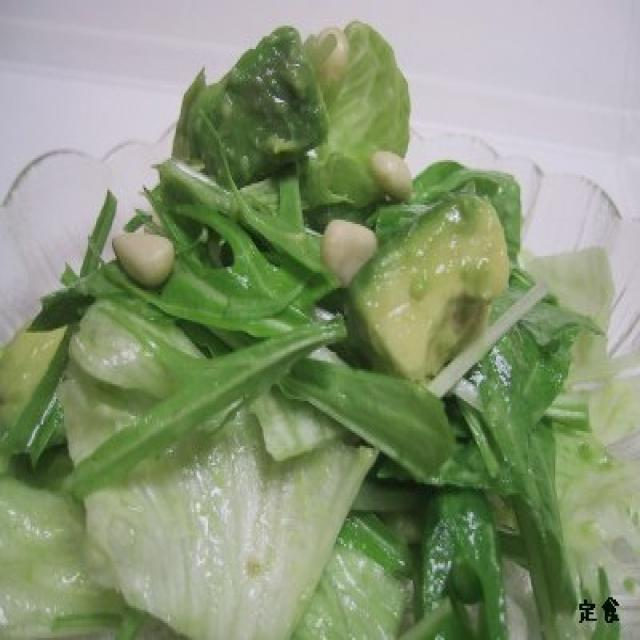Green Salad: (0, 51, 637, 640)
